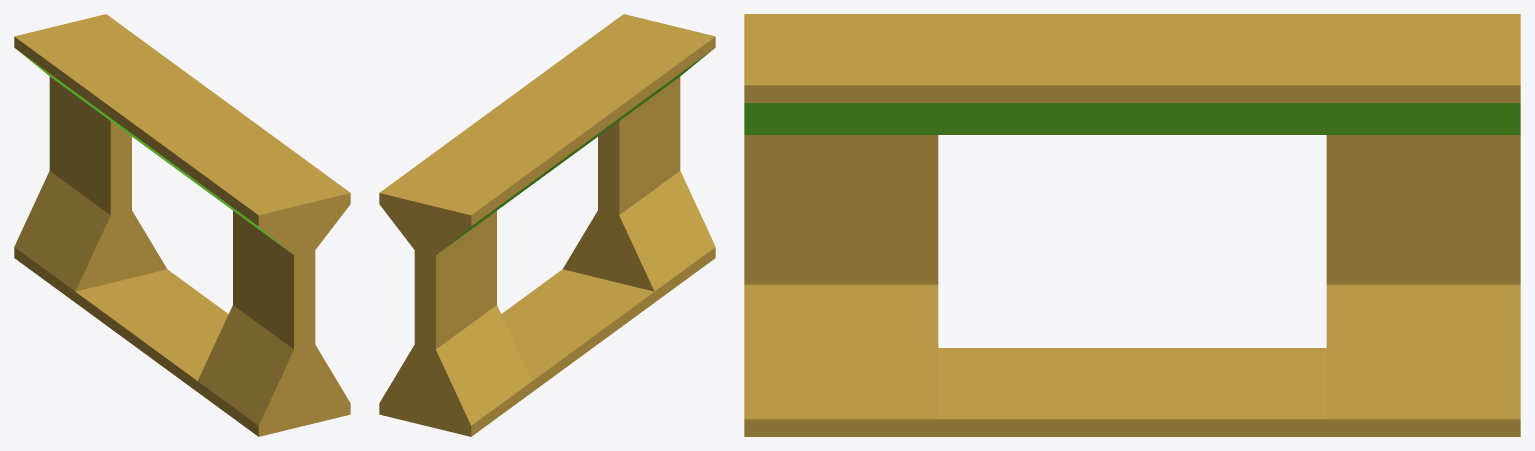
Rendered from DoorOpening_Large_8m.fbx.
3 renders of one model, left to right at view 1: azimuth 30°, elevation 25°; view 2: azimuth 150°, elevation 25°; view 3: azimuth 270°, elevation 25°, orthographic. The views are drawn at different scales.
Visible parts, largest first — view 1: Cube.005; view 2: Cube.005; view 3: Cube.005.
Boxes of the visible parts, <box> form: Cube.005: <box>14,14,350,436</box>; Cube.005: <box>379,14,715,436</box>; Cube.005: <box>744,14,1520,436</box>.
Size of the model in its own units: 174 by 400 by 800.
